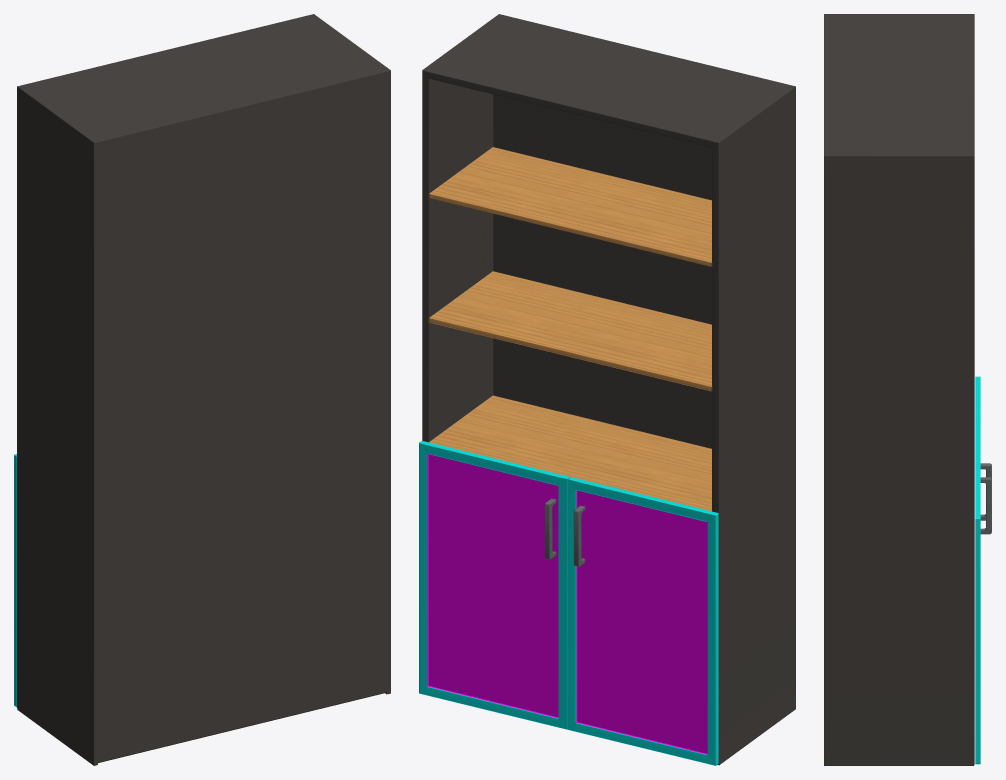
File: CupboardDark-transformed.glb
3 views of the same model, side by side, from view 1: azimuth 30°, elevation 25°; view 2: azimuth 150°, elevation 25°; view 3: azimuth 270°, elevation 25° (orthographic). The views are drawn at different scales.
Visible parts, largest first — view 1: Cupboard 900 450 1800 mm Half Glass Door; view 2: Cupboard 900 450 1800 mm Half Glass Door; view 3: Cupboard 900 450 1800 mm Half Glass Door.
Boxes of the visible parts, x1,y1,x2,y2 form: Cupboard 900 450 1800 mm Half Glass Door: [14, 14, 390, 765]; Cupboard 900 450 1800 mm Half Glass Door: [419, 14, 795, 765]; Cupboard 900 450 1800 mm Half Glass Door: [824, 14, 991, 765].
Size of the model in its own units: 1.21 by 2.44 by 0.6075.
1 material, 1 textured.
